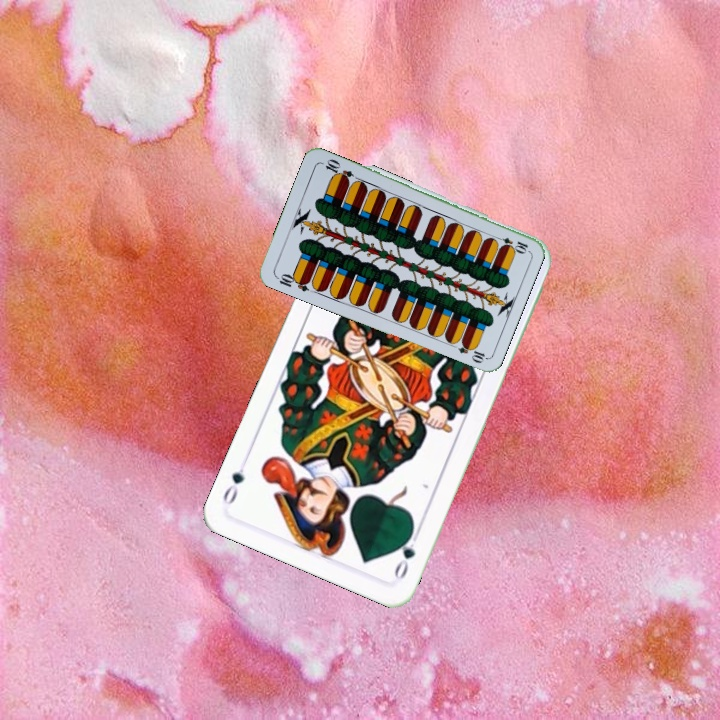E10: (272, 269, 312, 294), (490, 232, 530, 255)
GO: (390, 525, 423, 582)
